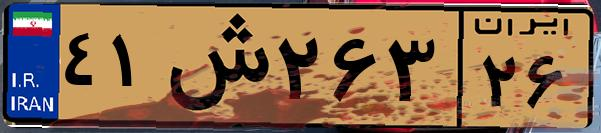1: (110, 28, 158, 98)
2: (270, 28, 330, 110), (475, 38, 525, 113)
3: (385, 28, 445, 110)
4: (57, 26, 110, 100)
6: (330, 28, 385, 110), (525, 38, 570, 115)
ش: (158, 12, 270, 120)
